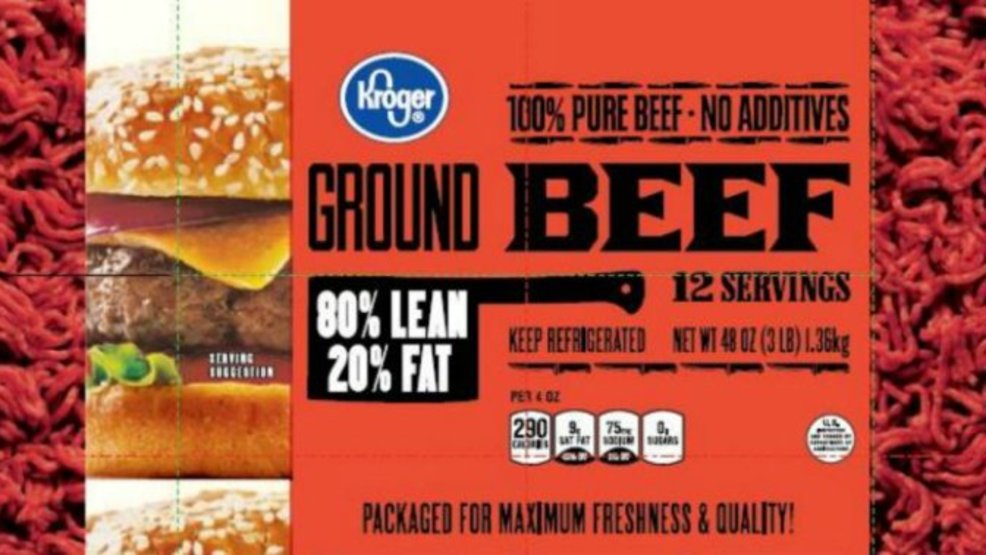ground_beef: (827, 22, 986, 507)
